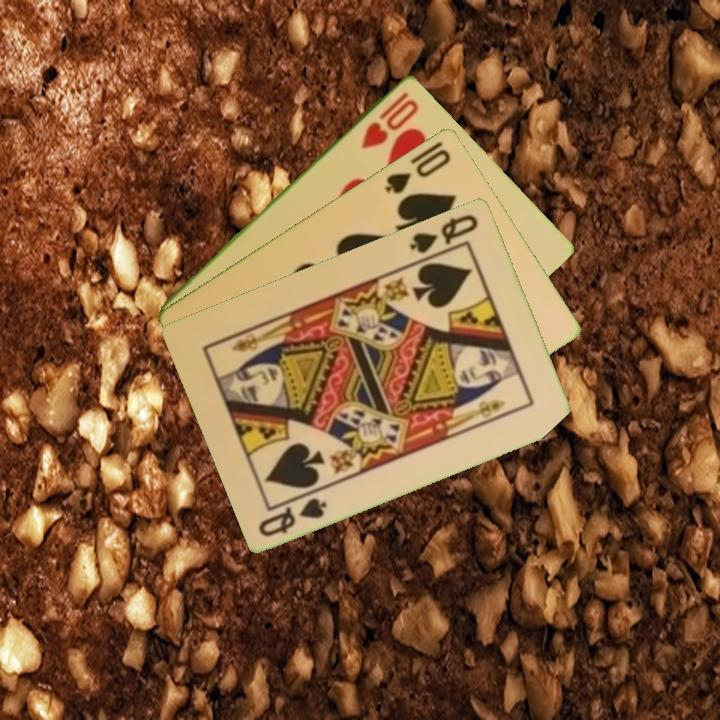10h: (357, 88, 422, 151)
10s: (381, 144, 454, 197)
Qs: (405, 210, 481, 256), (255, 493, 330, 539)
